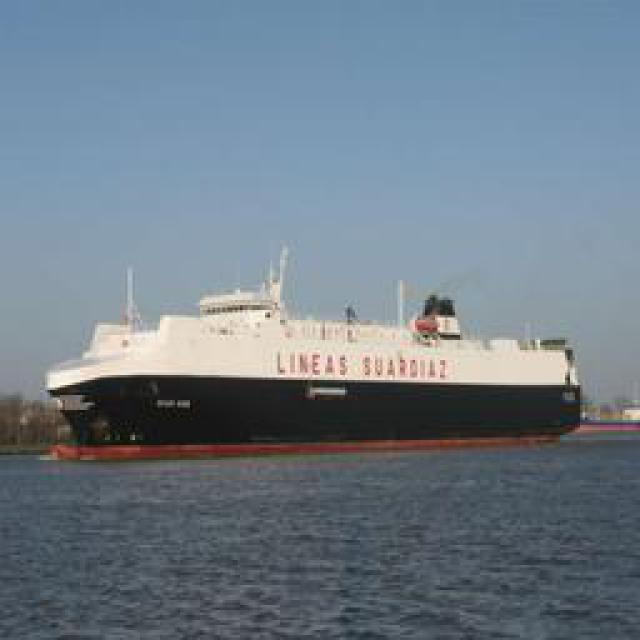Ship: (48, 246, 583, 463)
